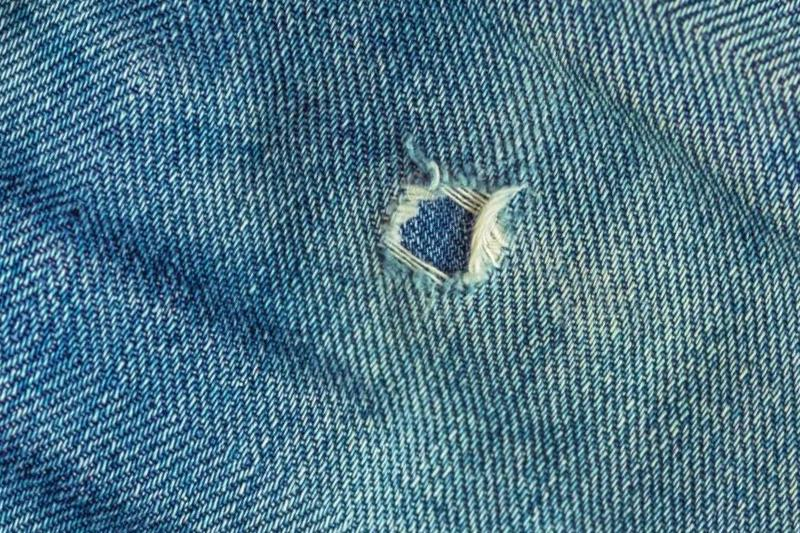hole: (369, 164, 511, 301)
